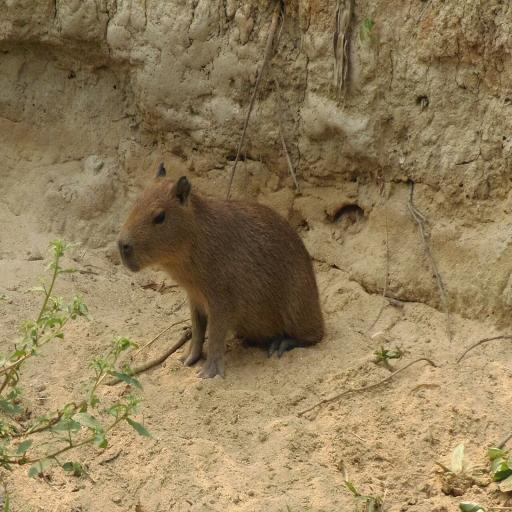capybara: (54, 152, 342, 437)
